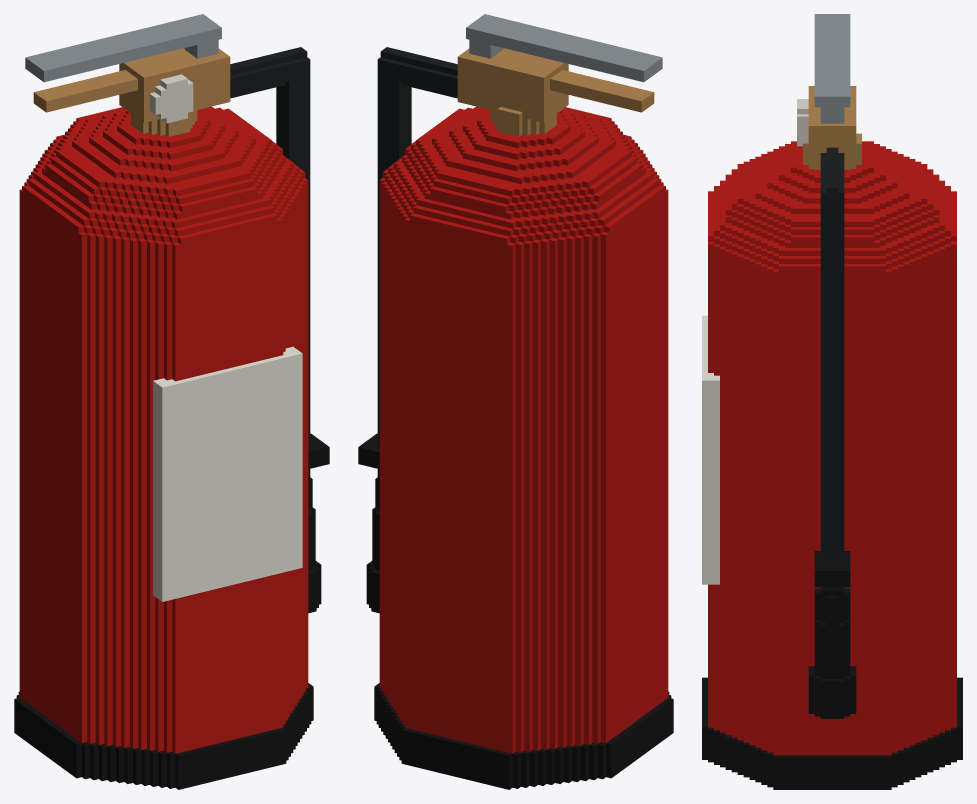
The model's file is extinguisher.glb.
3 views of the same model, side by side, from view 1: azimuth 30°, elevation 25°; view 2: azimuth 150°, elevation 25°; view 3: azimuth 270°, elevation 25° (orthographic). The views are drawn at different scales.
Visible parts, largest first — view 1: extinguisher:compound; view 2: extinguisher:compound; view 3: extinguisher:compound.
Boxes of the visible parts, x1,y1,x2,y2 form: extinguisher:compound: (14,14,329,789); extinguisher:compound: (358,14,673,789); extinguisher:compound: (702,14,962,789).
Size of the model in its own units: 0.212 by 0.492 by 0.176.
